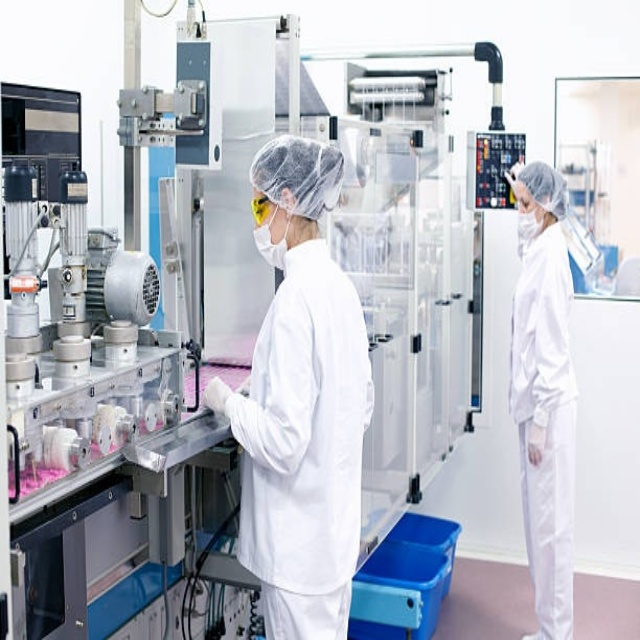Gafas: (251, 191, 274, 223)
Guantes: (203, 375, 235, 418), (526, 414, 549, 466)
Mascara: (253, 212, 293, 275), (516, 202, 543, 246)
Sin_gafas: (515, 191, 534, 215)
